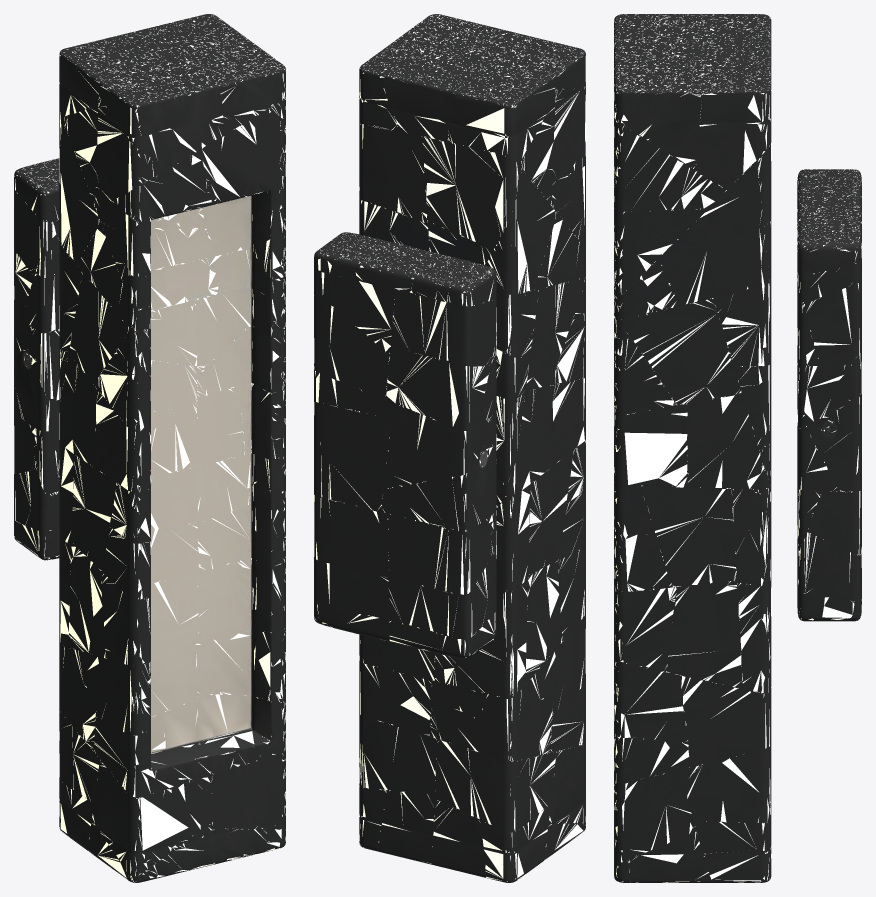
Rendered from wall-scone-mesh.glb.
3 renders of one model, left to right at view 1: azimuth 30°, elevation 25°; view 2: azimuth 150°, elevation 25°; view 3: azimuth 270°, elevation 25°, orthographic.
Visible parts, largest first — view 1: mesh_node; view 2: mesh_node; view 3: mesh_node.
Boxes of the visible parts, x1,y1,x2,y2 form: mesh_node: [14, 14, 285, 882]; mesh_node: [314, 14, 585, 882]; mesh_node: [614, 14, 861, 882].
Size of the model in its own units: 0.4009 by 1.9 by 0.539.
Materials: 2 (1 with a texture image).
